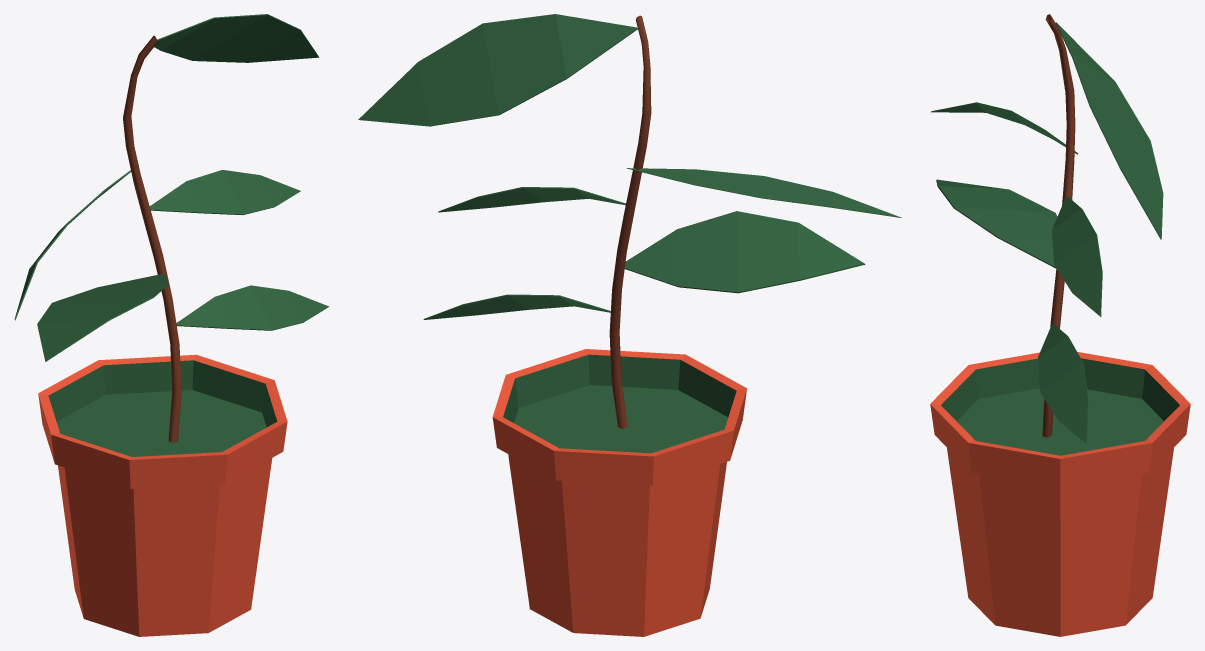
File: Plant_Pot.fbx
The picture shows the model from 3 angles, left to right: view 1: azimuth 30°, elevation 25°; view 2: azimuth 150°, elevation 25°; view 3: azimuth 270°, elevation 25°; orthographic projection. The views are drawn at different scales.
Parts seen in each view (by area): view 1: Plane.004; view 2: Plane.004; view 3: Plane.004.
Part boxes in pixels (x1,y1,x2,y2): Plane.004: (14,14,329,636); Plane.004: (358,14,901,636); Plane.004: (930,14,1190,636).
Bounding box in the file's own units: 349 × 455 × 186.
